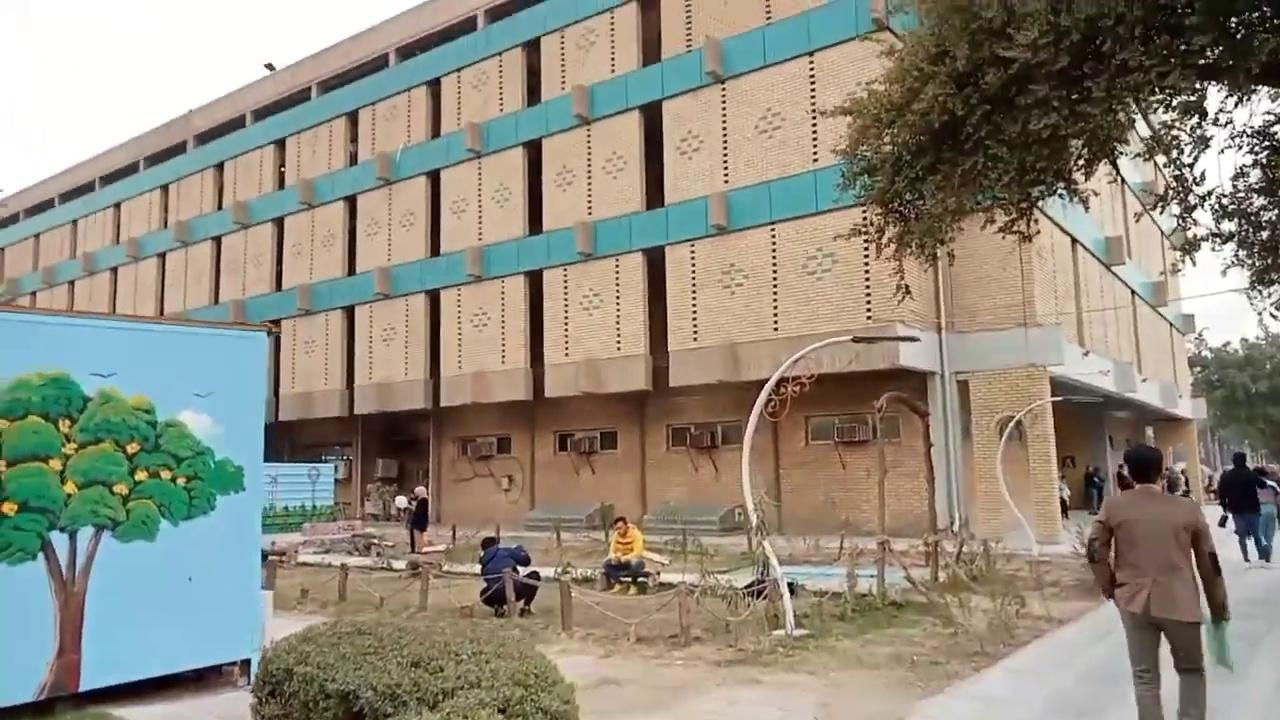person: (1086, 443, 1231, 719), (1217, 450, 1269, 562), (477, 535, 540, 618), (602, 515, 645, 595), (407, 485, 429, 553), (1058, 473, 1071, 520), (1205, 474, 1217, 500)
tree: (807, 0, 1278, 309), (0, 369, 245, 702), (1131, 84, 1279, 341), (247, 616, 580, 718), (1186, 327, 1279, 468)
